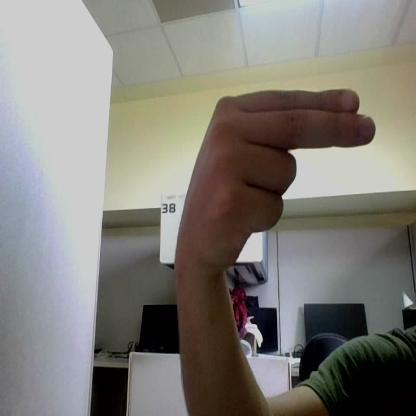H: (190, 88, 374, 274)
